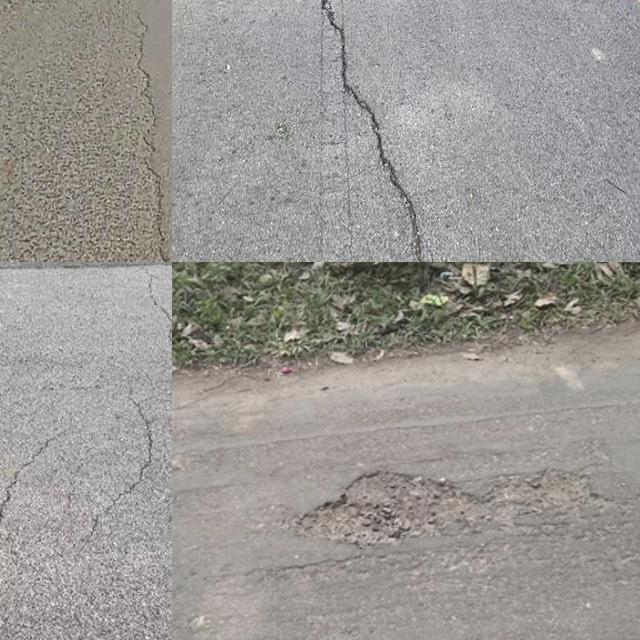Lubang: (301, 466, 612, 547)
Memanjang: (290, 0, 441, 262), (127, 0, 172, 262), (0, 429, 62, 600), (135, 278, 172, 362)
